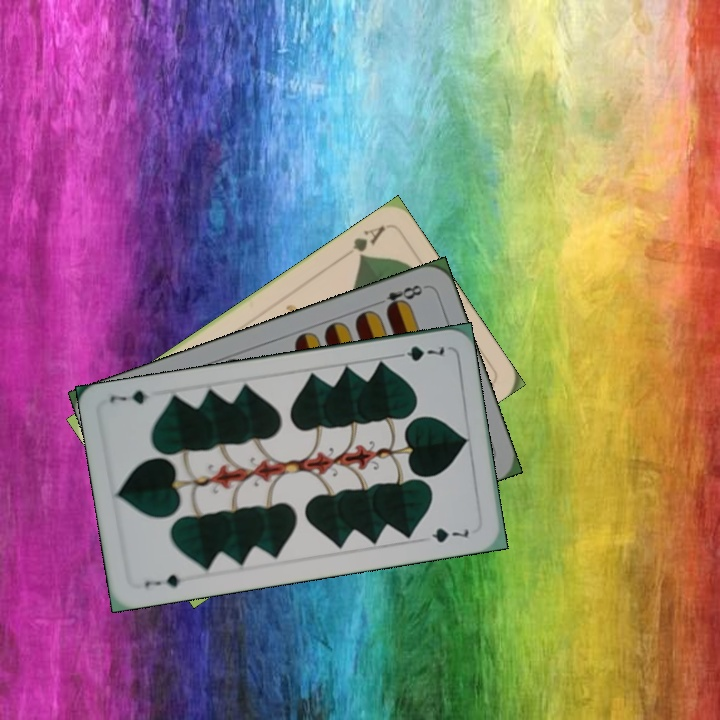E8: (371, 280, 428, 314)
G7: (389, 341, 447, 364), (141, 570, 192, 591)
GA: (348, 221, 388, 262)
